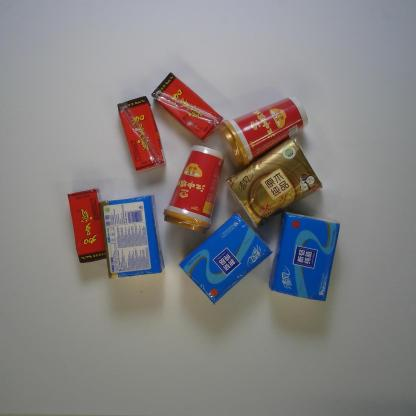Drink: (151, 68, 225, 143), (116, 94, 166, 172), (64, 186, 108, 265)
Instant Drink: (216, 94, 309, 169), (164, 142, 225, 235)
Tissue: (176, 214, 274, 306), (226, 137, 322, 226), (268, 210, 342, 305), (99, 192, 166, 280)
